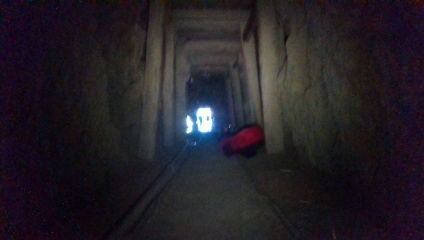backpack: (219, 126, 262, 157)
manikin: (185, 107, 196, 146)
